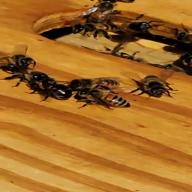Bee: (76, 84, 142, 116), (128, 64, 182, 102)
